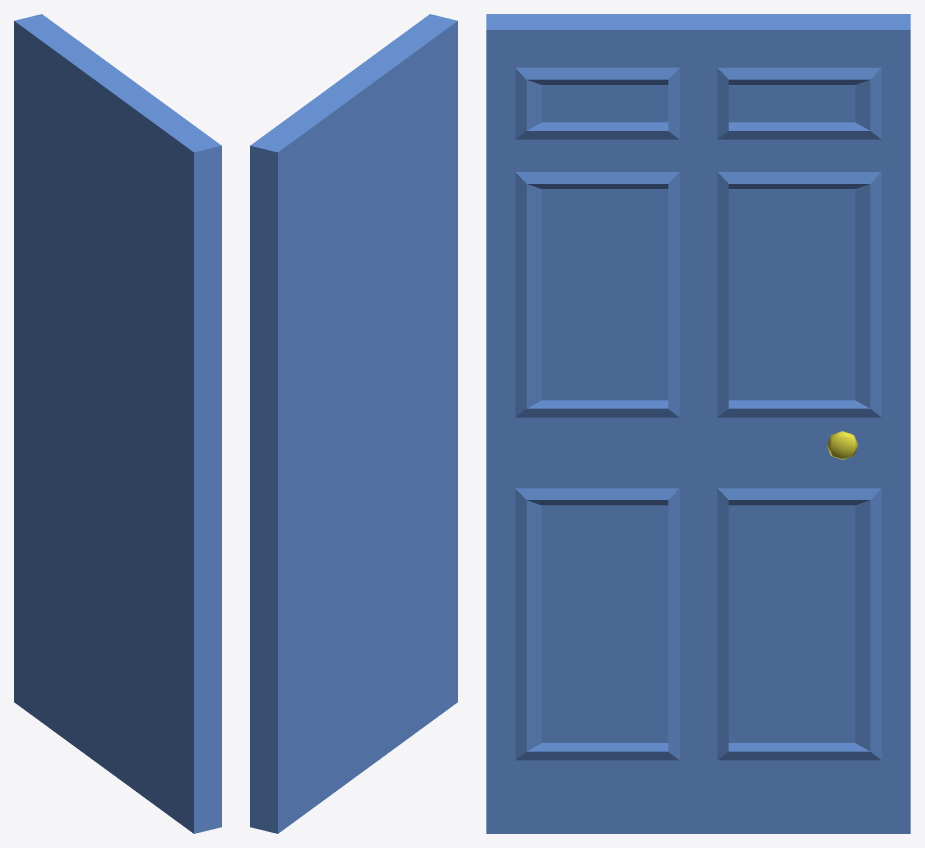
File: door.fbx
The picture shows the model from 3 angles, left to right: view 1: azimuth 30°, elevation 25°; view 2: azimuth 150°, elevation 25°; view 3: azimuth 270°, elevation 25°; orthographic projection. The views are drawn at different scales.
Parts seen in each view (by area): view 1: Cube.002; view 2: Cube.002; view 3: Cube.002.
Boxes of the visible parts, box(x1,y1,x2,y2) form: Cube.002: box(14, 14, 221, 833); Cube.002: box(250, 14, 457, 833); Cube.002: box(486, 14, 910, 833).
Bounding box in the file's own units: 70.49 × 1170 × 560.
